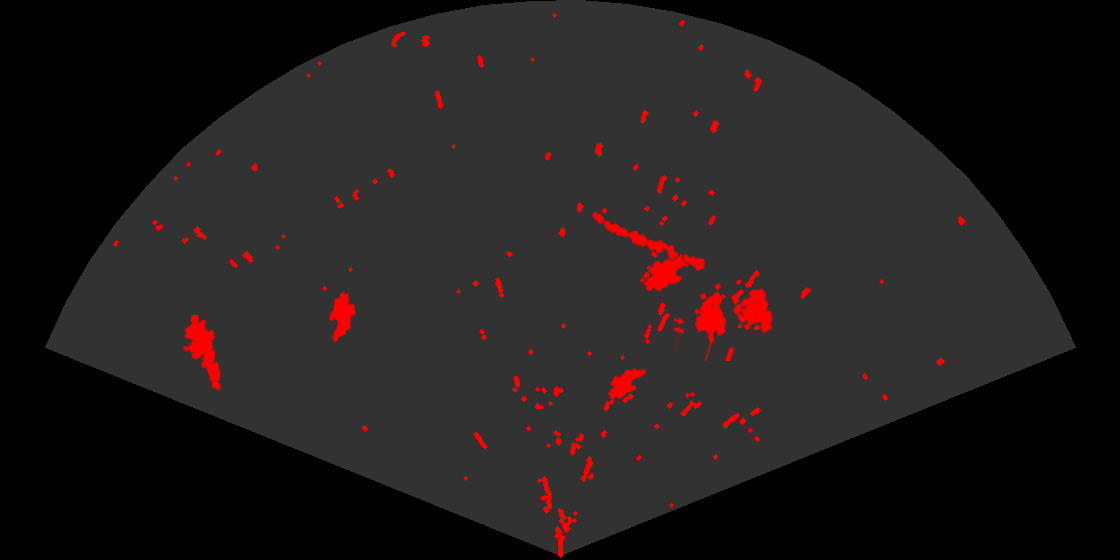AUV: (642, 252, 699, 293), (327, 290, 358, 344), (606, 367, 648, 401)
cage: (674, 282, 775, 361)
chain: (590, 210, 708, 273)
frogman: (181, 315, 223, 391)
